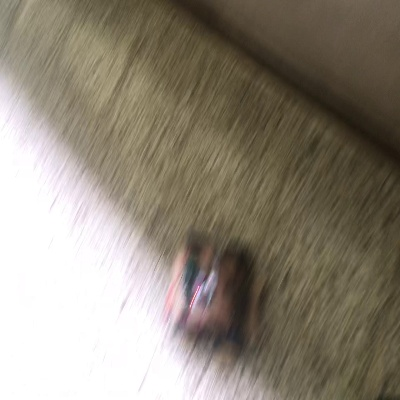Robot: (163, 235, 264, 362)
